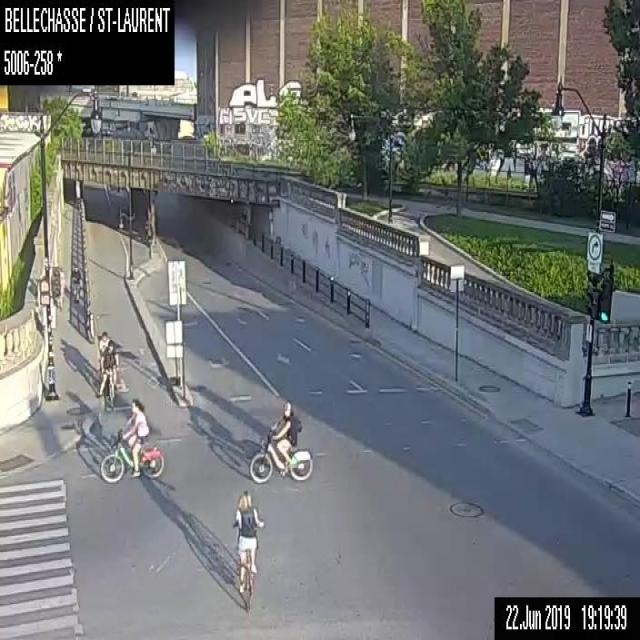cyclist: (101, 397, 164, 483), (249, 401, 313, 484), (231, 490, 264, 610), (96, 330, 118, 409)
